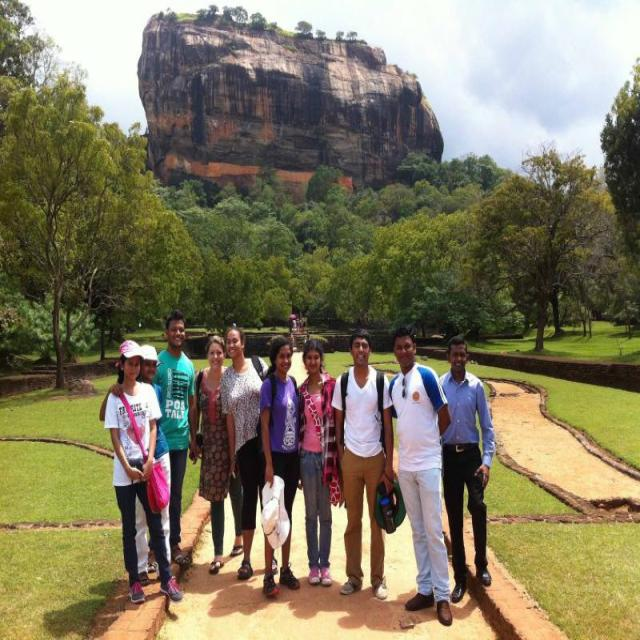body: (38, 581, 529, 640), (102, 337, 186, 603), (330, 326, 408, 602), (386, 323, 454, 626), (98, 344, 172, 588), (437, 334, 498, 605), (219, 324, 280, 581), (188, 334, 246, 578), (253, 332, 304, 598), (149, 310, 196, 572), (296, 337, 338, 589), (286, 311, 308, 334)
